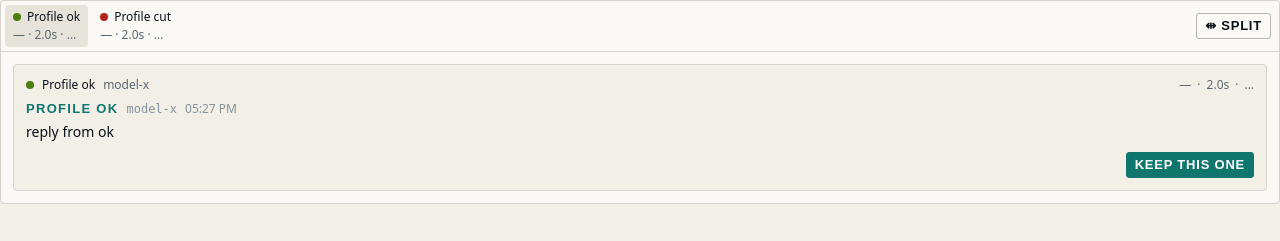
Test: VariantTabs › offers no Retry for a variant cut off when the machine writing it went away
Step 1. Click the tab with test id "variant-tab-cut" → (136, 26), box [92, 5, 179, 47]
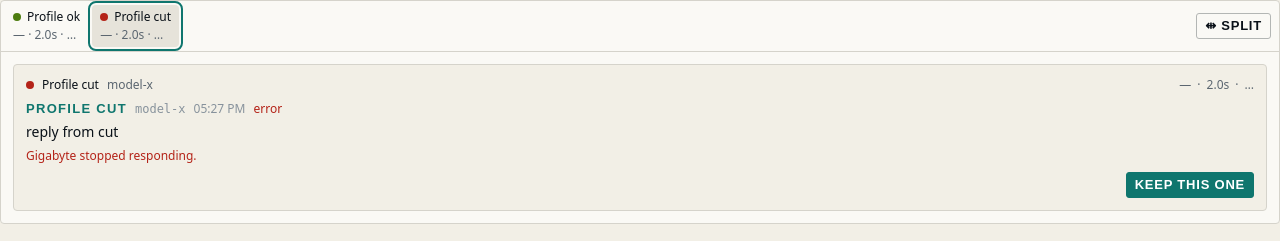
Check: the text "Gigabyte stopped responding." is shown, box [26, 147, 197, 164]
